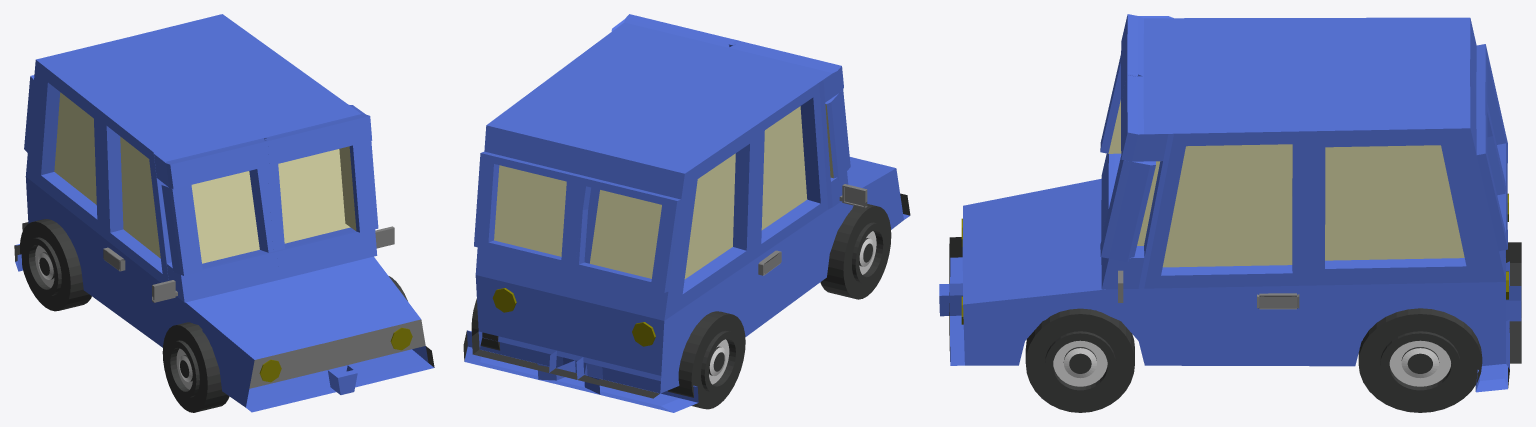
The model's file is Carro.fbx.
3 views of the same model, side by side, from view 1: azimuth 30°, elevation 25°; view 2: azimuth 150°, elevation 25°; view 3: azimuth 270°, elevation 25° (orthographic). The views are drawn at different scales.
Visible parts, largest first — view 1: Plane, Cylinder.002, Cylinder.001, Cube.003; view 2: Plane, Cylinder.002, Cylinder.001, Cube.003, Cylinder.003, Cylinder.006, Cylinder.007; view 3: Plane, Cylinder.003, Cylinder, Cube.001.
Part boxes in pixels (x1,y1,x2,y2): Plane: (14, 14, 434, 412); Cylinder.002: (20, 219, 91, 311); Cylinder.001: (162, 322, 229, 412); Cube.003: (152, 280, 177, 302); Plane: (463, 14, 910, 412); Cylinder.002: (668, 311, 745, 409); Cylinder.001: (820, 204, 891, 299); Cube.003: (839, 184, 867, 208); Cylinder.003: (471, 298, 500, 350); Cylinder.006: (632, 322, 655, 346); Cylinder.007: (492, 288, 516, 312); Plane: (939, 14, 1521, 392); Cylinder.003: (1358, 308, 1482, 412); Cylinder: (1025, 308, 1134, 412); Cube.001: (1257, 293, 1299, 309).
Size of the model in its own units: 1127 by 1030 by 1947.
